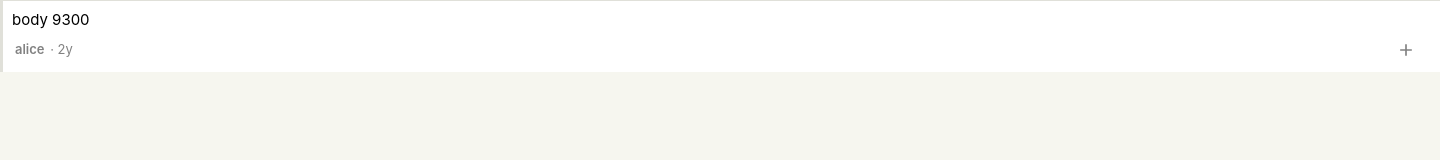
Test: <Comment> downvote wiring › signed-in user tapping downvote POSTs /api/vote with how=down and flips aria-pressed
The width and height of the screenshot is (1440, 160).
Expected: the text "body 9300" is shown, x1=12 y1=10 x2=90 y2=29
Click the button named "expand comment" at (1406, 50), box x1=1384 y1=32 x2=1428 y2=68
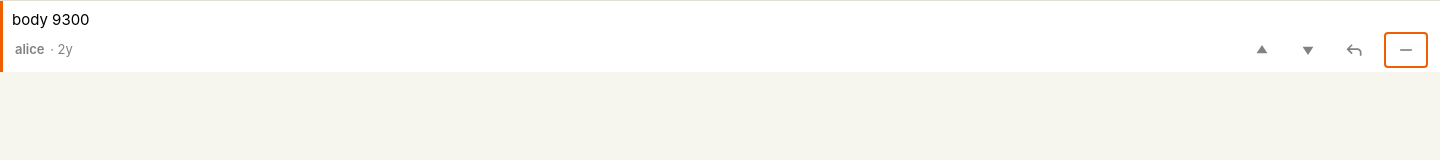
Click the button with test id "comment-downvote" at (1308, 50), box x1=1286 y1=32 x2=1330 y2=68
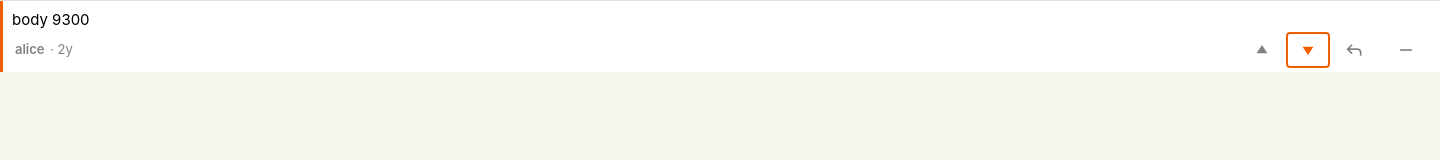
Now the button with test id "comment-downvote" is pressed, box x1=1286 y1=32 x2=1330 y2=68
